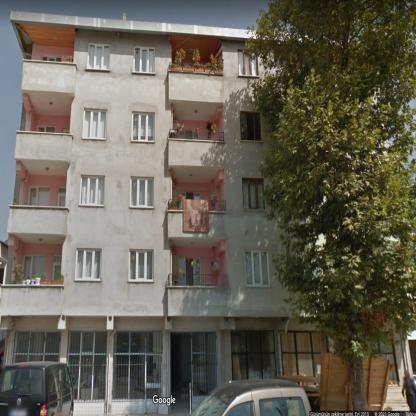door: (146, 354, 163, 414), (51, 256, 62, 279), (58, 187, 66, 207)
window: (112, 330, 162, 401), (67, 329, 107, 401), (232, 331, 276, 379), (281, 331, 328, 375), (191, 330, 218, 398), (16, 332, 61, 362), (245, 250, 269, 286), (376, 345, 399, 381), (76, 250, 101, 280), (129, 250, 153, 281), (83, 109, 107, 139), (242, 179, 265, 210), (80, 176, 104, 205), (130, 177, 153, 207), (178, 258, 201, 286), (132, 113, 154, 142), (240, 111, 262, 140), (88, 44, 110, 70), (133, 46, 155, 72), (22, 255, 45, 277), (238, 50, 258, 75), (28, 186, 50, 205), (179, 130, 198, 139), (42, 55, 62, 61), (180, 192, 200, 198), (36, 126, 55, 132)
